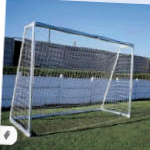goals: (10, 20, 136, 137)
